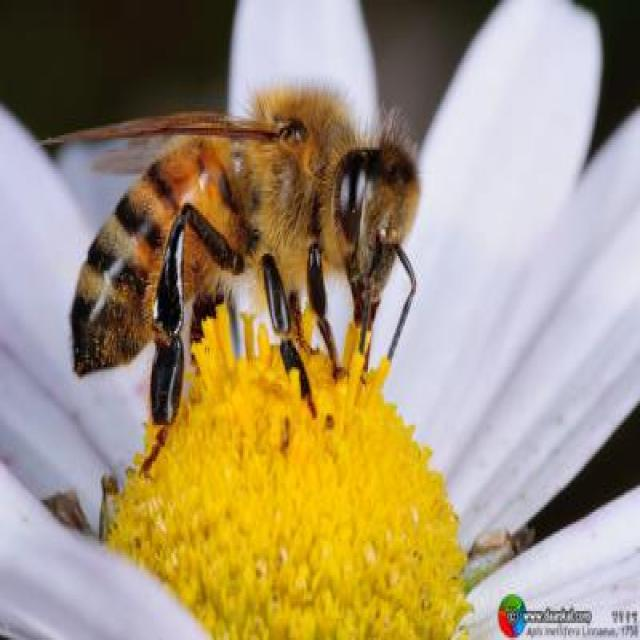antennae: (354, 231, 387, 358), (388, 241, 417, 361)
body: (69, 100, 418, 374)
insect: (32, 87, 426, 474)
legs: (134, 204, 244, 476), (256, 247, 328, 429), (305, 241, 350, 379), (188, 271, 229, 380), (290, 282, 322, 366)
mouthpart: (348, 266, 378, 342)
wings: (37, 109, 310, 145), (87, 136, 201, 176)
